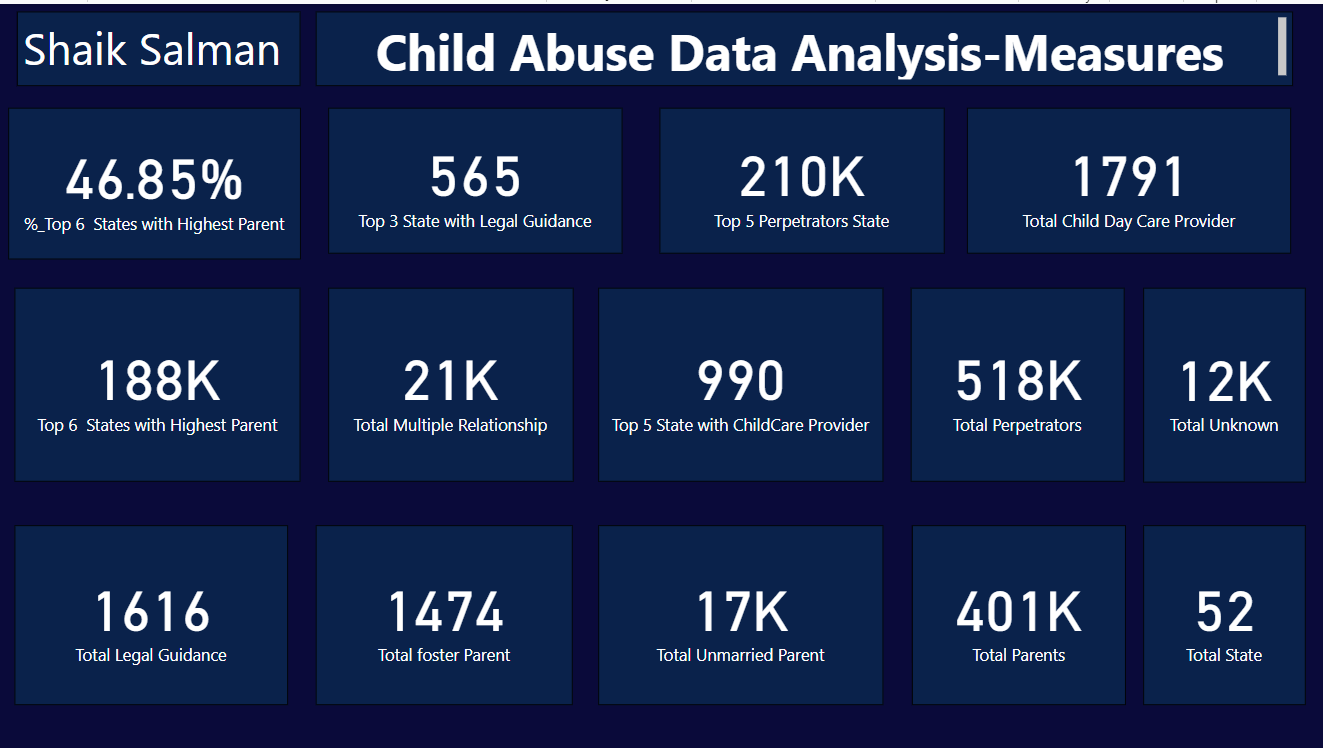

The dashboard page shown, as its layout file describes it:
{"tool":"powerbi","page":{"name":"All Measures","canvas":[1280,720],"ordinal":0},"visuals":[{"type":"card","fields":{"Values":["All Measures.Top 6  States"]},"box":[11,100.3,282.5,146.7],"z":0},{"type":"card","fields":{"Values":["All Measures.Top 3 State with Legal Guidance"]},"box":[319.2,100.3,283.7,140.6],"z":1000},{"type":"card","fields":{"Values":["All Measures.Top 5 Perpetrators"]},"box":[639.5,100.3,275.1,140.6],"z":2000},{"type":"card","fields":{"Values":["All Measures.Top 5 State with ChildCare Provider"]},"box":[580.3,273.9,275.1,187],"z":3000},{"type":"card","fields":{"Values":["All Measures.Top 6  States with Highest Parent"]},"box":[16.9,273.9,276.3,187],"z":4000},{"type":"card","fields":{"Values":["All Measures.Total Child Day Care Provider"]},"box":[936.7,100.3,313,140.6],"z":5000},{"type":"card","fields":{"Values":["All Measures.Total foster Parent"]},"box":[308.2,502.6,248.2,173.6],"z":6000},{"type":"card","fields":{"Values":["All Measures.Total Legal Guidance"]},"box":[17.1,502.6,264.1,173.6],"z":7000},{"type":"card","fields":{"Values":["All Measures.Total Multiple Relationship"]},"box":[319.7,273.9,236.5,187],"z":8000},{"type":"card","fields":{"Values":["All Measures.TotalParents"]},"box":[882.9,502.6,206.7,173.6],"z":9000},{"type":"card","fields":{"Values":["All Measures.Total Perpetrators"]},"box":[881.9,273.9,206.3,187],"z":10000},{"type":"card","fields":{"Values":["All Measures.Total State"]},"box":[1106.7,502.6,156.5,173.6],"z":11000},{"type":"card","fields":{"Values":["All Measures.Total Unmarried Parent"]},"box":[580.8,502.6,275.1,173.6],"z":12000},{"type":"textbox","box":[308.2,7.3,942.8,72.1],"z":13000},{"type":"textbox","box":[19.6,7.3,273.9,72.1],"z":14000},{"type":"card","fields":{"Values":["All Measures.Total Unknown"]},"box":[1106.3,273.9,156.8,188.2],"z":15000}]}

Visuals, with their boxes in screenshot pixels (x1, y1, x2, y2), scaled from the page's 1280x720 canvas onto the 1323x748 screenshot:
card - All Measures.Top 6  States: rect(11, 104, 303, 257)
card - All Measures.Top 3 State with Legal Guidance: rect(330, 104, 623, 250)
card - All Measures.Top 5 Perpetrators: rect(661, 104, 945, 250)
card - All Measures.Top 5 State with ChildCare Provider: rect(600, 285, 884, 479)
card - All Measures.Top 6  States with Highest Parent: rect(17, 285, 303, 479)
card - All Measures.Total Child Day Care Provider: rect(968, 104, 1292, 250)
card - All Measures.Total foster Parent: rect(319, 522, 575, 702)
card - All Measures.Total Legal Guidance: rect(18, 522, 291, 702)
card - All Measures.Total Multiple Relationship: rect(330, 285, 575, 479)
card - All Measures.TotalParents: rect(913, 522, 1126, 702)
card - All Measures.Total Perpetrators: rect(912, 285, 1125, 479)
card - All Measures.Total State: rect(1144, 522, 1306, 702)
card - All Measures.Total Unmarried Parent: rect(600, 522, 885, 702)
textbox: rect(319, 8, 1293, 82)
textbox: rect(20, 8, 303, 82)
card - All Measures.Total Unknown: rect(1143, 285, 1306, 480)
